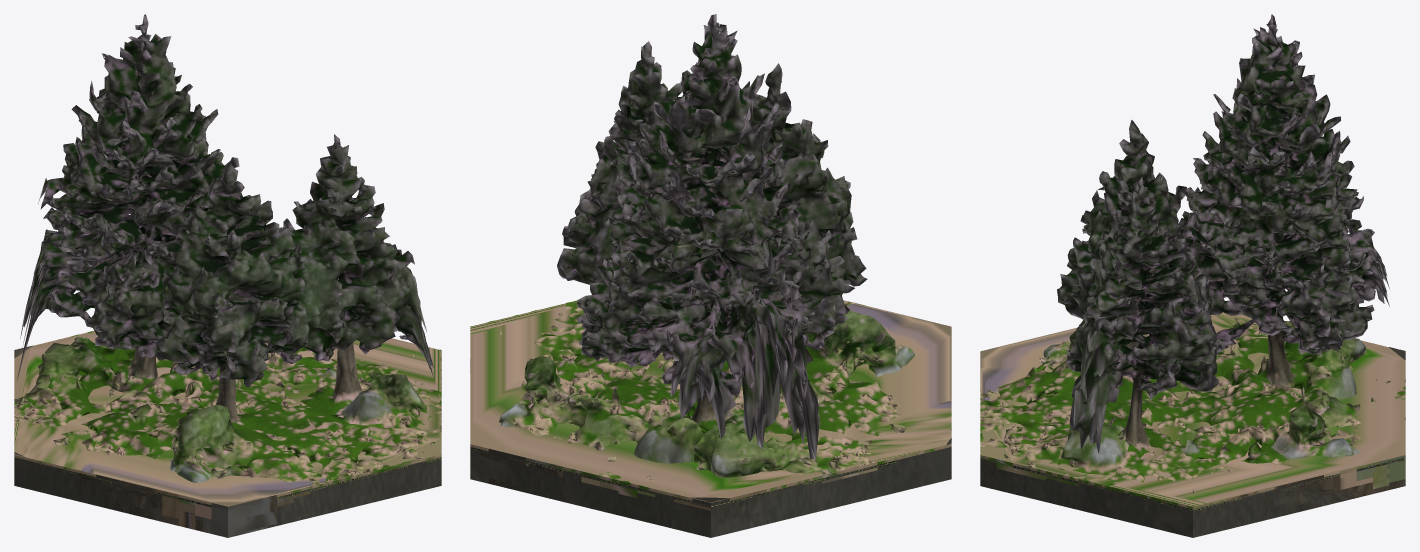
The model's file is hex_meadow_building.glb.
3 views of the same model, side by side, from view 1: azimuth 30°, elevation 25°; view 2: azimuth 150°, elevation 25°; view 3: azimuth 270°, elevation 25° (orthographic). The views are drawn at different scales.
Parts seen in each view (by area): view 1: hex_meadow_building_s7_fit; view 2: hex_meadow_building_s7_fit; view 3: hex_meadow_building_s7_fit.
Boxes of the visible parts, box(x1,y1,x2,y2) form: hex_meadow_building_s7_fit: box(14, 14, 441, 537); hex_meadow_building_s7_fit: box(470, 14, 951, 537); hex_meadow_building_s7_fit: box(980, 14, 1405, 537).
Bounding box in the file's own units: 5.11 × 4.57 × 4.42.
1 material, 1 textured.
